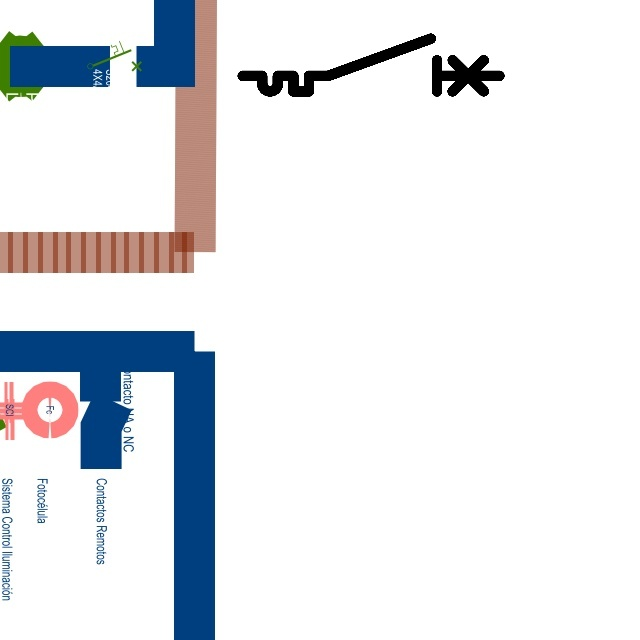interruptor_termomagnetico: (236, 32, 506, 98)
